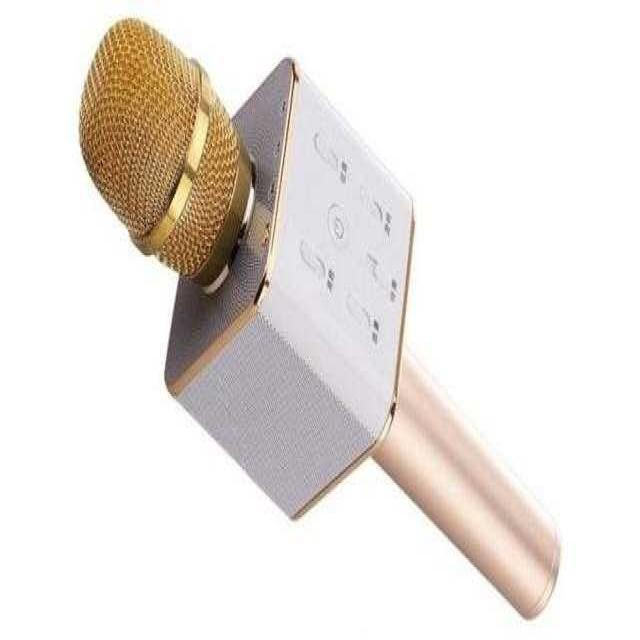microphone: (81, 19, 481, 524)
